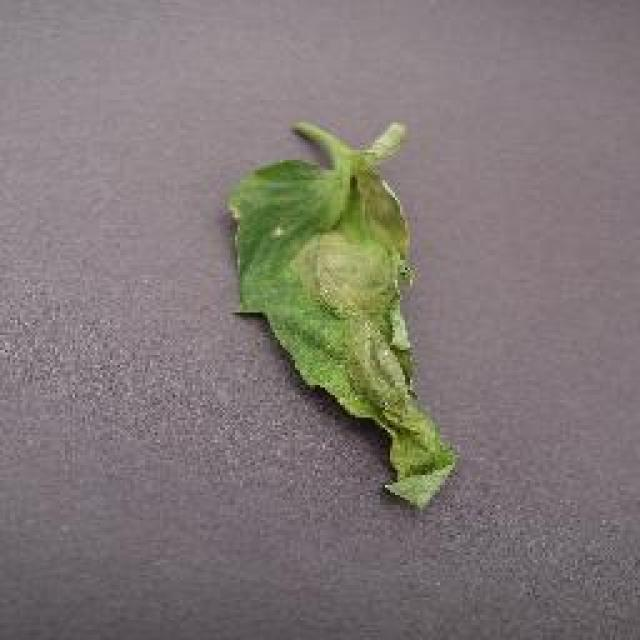Tomato___Late_blight: (225, 122, 458, 512)
